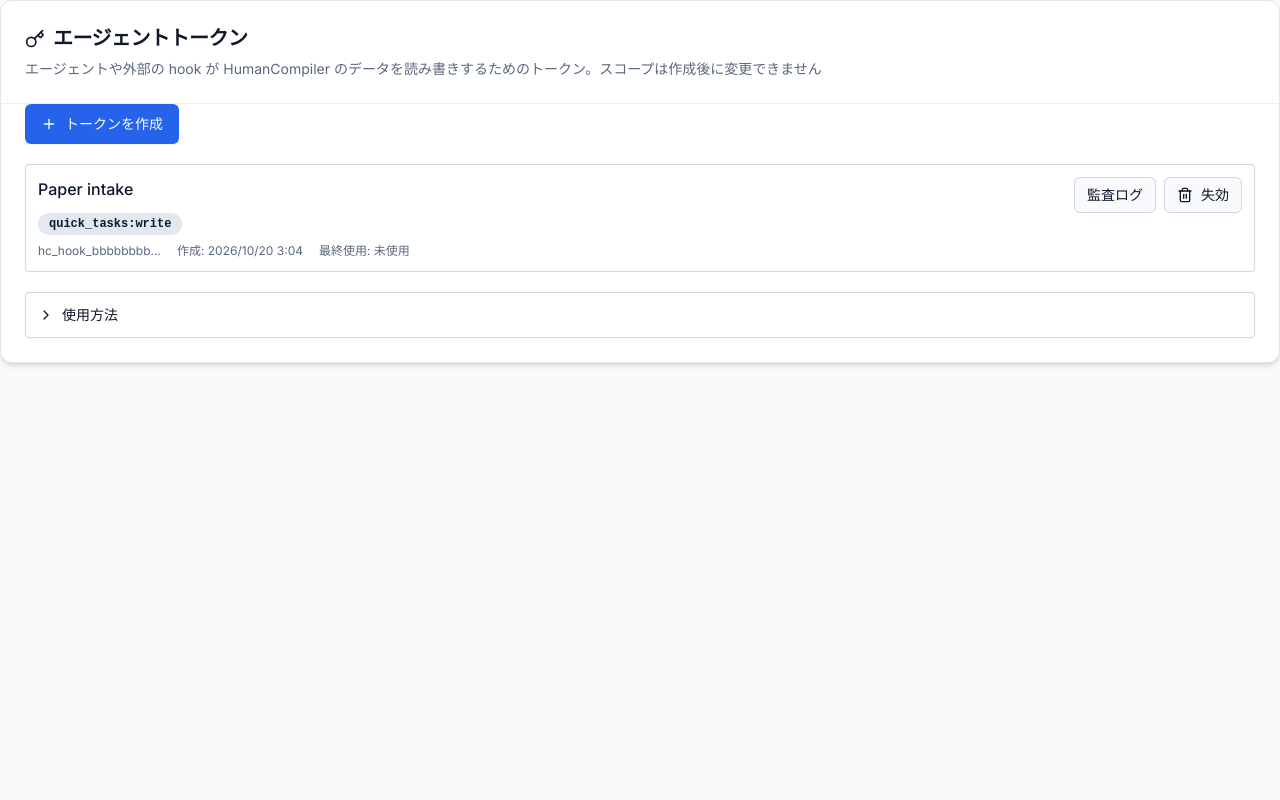
it: AgentTokensCard › lists a migrated hook token and revokes it
expect the text "quick_tasks:write" is shown: met, box [38,212,182,234]
Click the button with aria-label "Paper intake を失効": (1203, 194) [1164,176,1242,212]
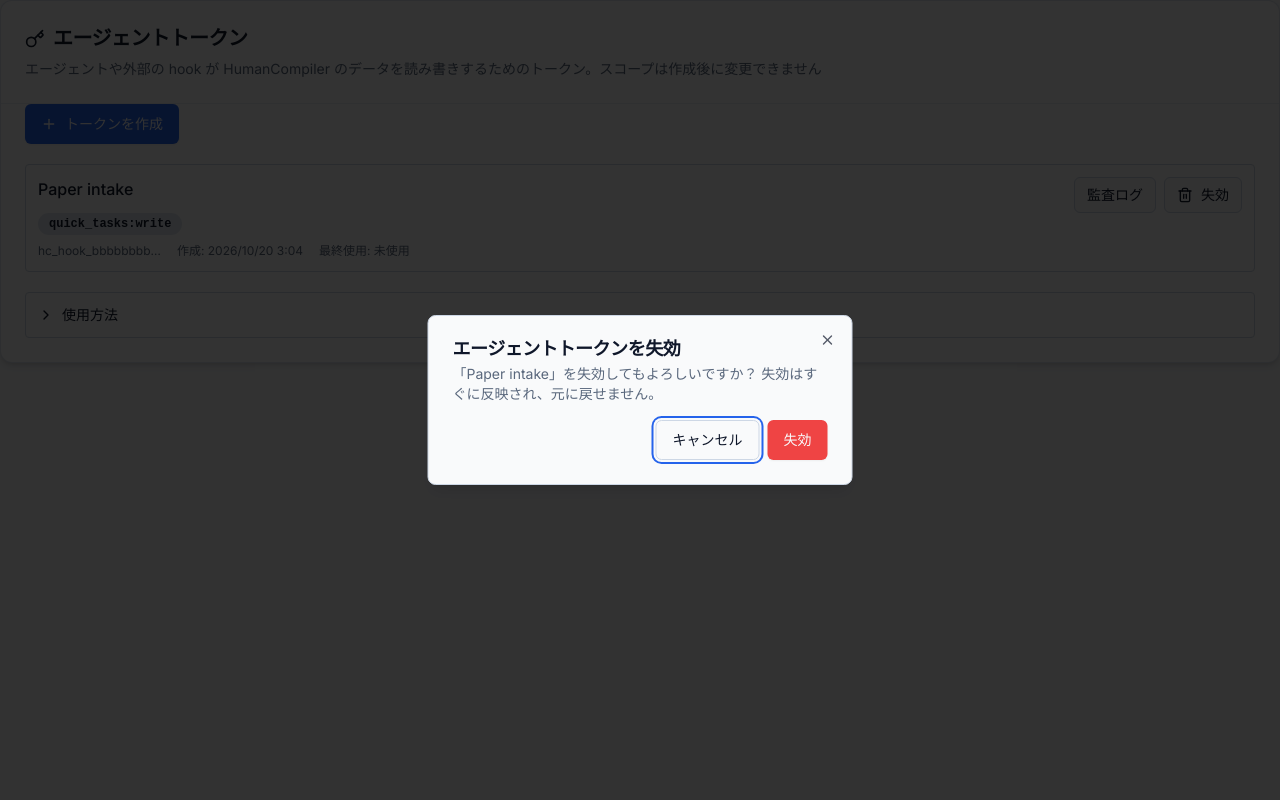
expect the text "「Paper intake」を失効してもよろしいですか？ 失効はすぐに反映され、元に戻せません。" is shown: met, box [452,364,828,404]
Click the button "失効": (798, 440) [768,420,828,460]
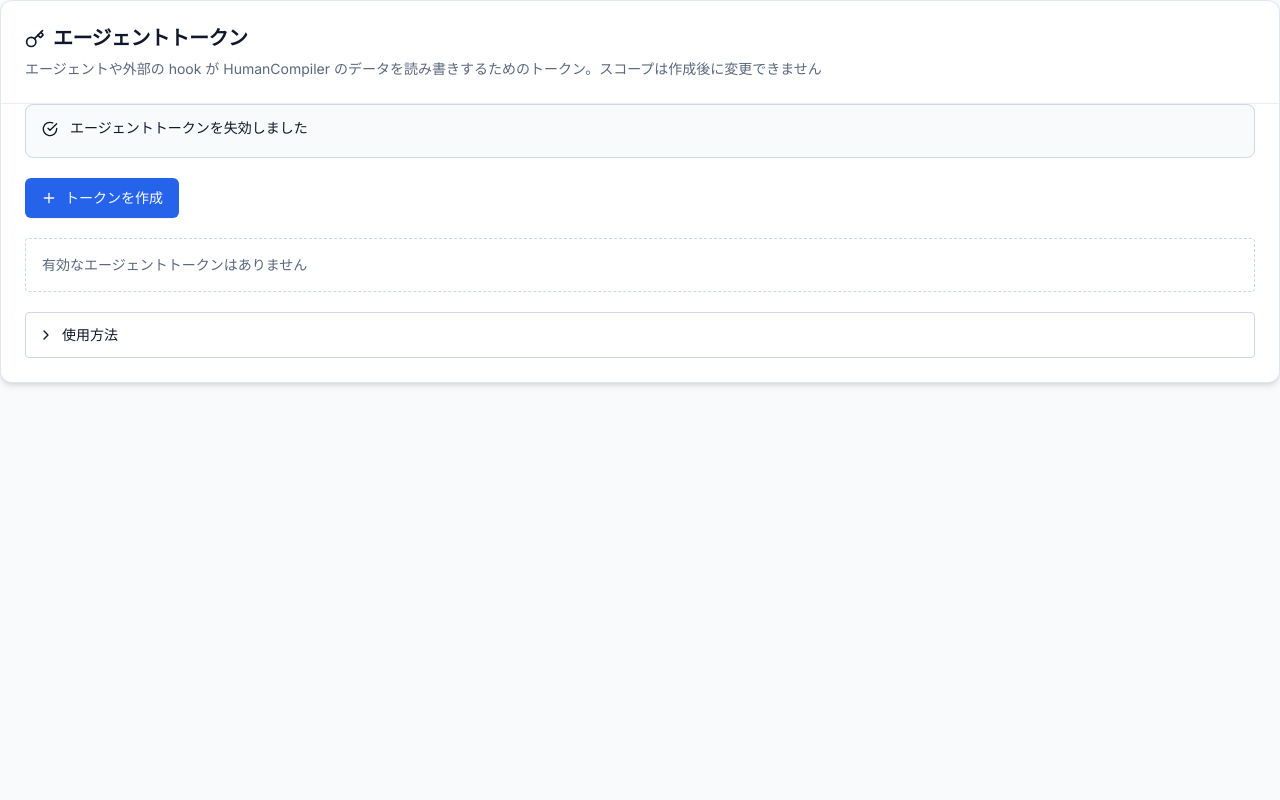
expect the heading "Paper intake" is gone: met
expect the text "エージェントトークンを失効しました" is shown: met, box [70,118,308,136]
